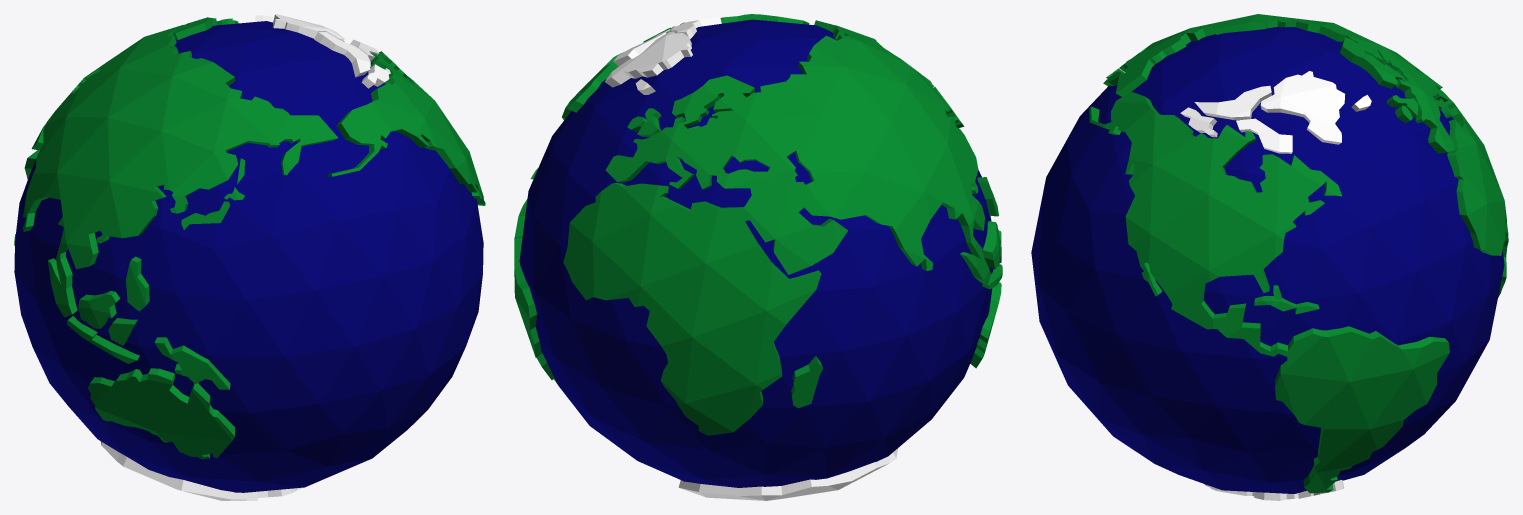
File: earth.glb
3 views of the same model, side by side, from view 1: azimuth 30°, elevation 25°; view 2: azimuth 150°, elevation 25°; view 3: azimuth 270°, elevation 25° (orthographic).
Visible parts, largest first — view 1: Object_4, Object_3, Object_2; view 2: Object_3, Object_4, Object_2; view 3: Object_4, Object_3, Object_2.
Part boxes in pixels (box(x1,y1,x2,y2)): Object_4: box(14, 21, 483, 492); Object_3: box(14, 17, 485, 459); Object_2: box(100, 14, 390, 500); Object_3: box(514, 14, 1002, 435); Object_4: box(519, 19, 993, 487); Object_2: box(605, 17, 898, 500); Object_4: box(1031, 27, 1504, 493); Object_3: box(1089, 14, 1508, 493); Object_2: box(1180, 71, 1371, 500).
Size of the model in its own units: 2.11 by 2.08 by 2.07.
